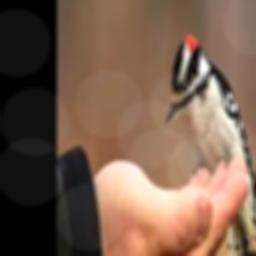Woodpecker: (165, 31, 256, 256)
